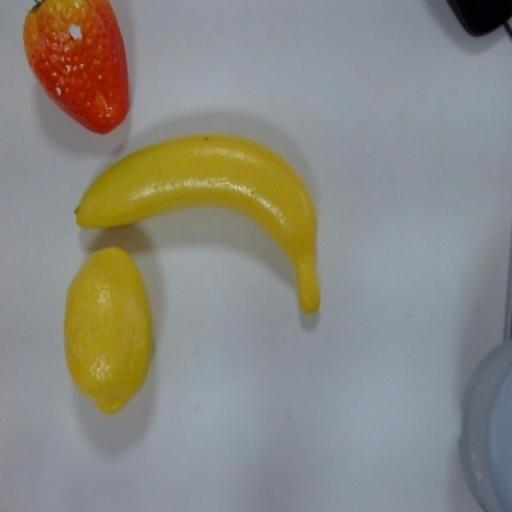Ripe: (72, 136, 366, 319), (58, 239, 170, 416), (19, 0, 145, 139)
